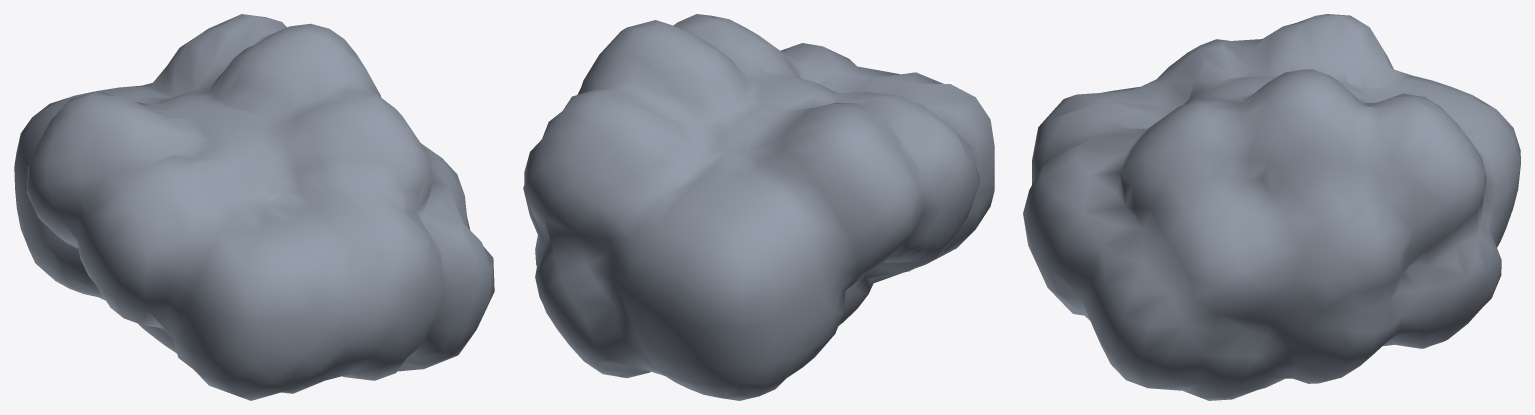
Rendered from nube1.fbx.
The picture shows the model from 3 angles, left to right: view 1: azimuth 30°, elevation 25°; view 2: azimuth 150°, elevation 25°; view 3: azimuth 270°, elevation 25°; orthographic projection. The views are drawn at different scales.
Parts seen in each view (by area): view 1: pPlatonic5; view 2: pPlatonic5; view 3: pPlatonic5.
Boxes of the visible parts, x1,y1,x2,y2 form: pPlatonic5: (14, 14, 494, 400); pPlatonic5: (523, 14, 994, 400); pPlatonic5: (1023, 14, 1520, 400).
Bounding box in the file's own units: 21.08 × 16.85 × 24.64.
